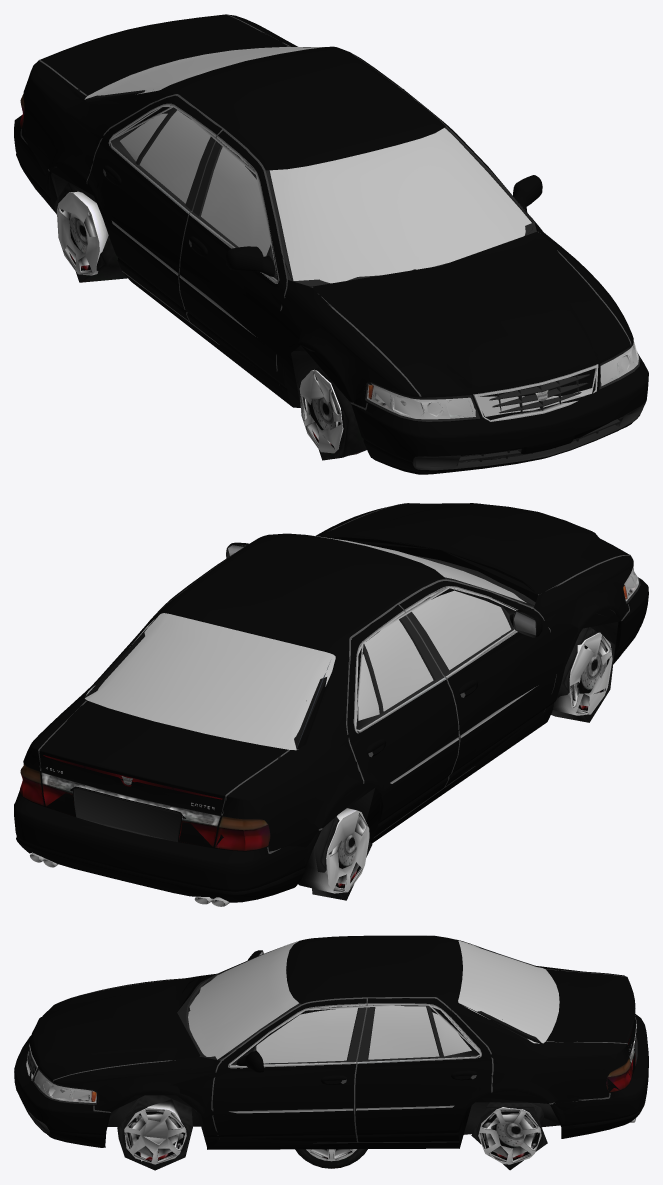
Rendered from carter.glb.
The picture shows the model from 3 angles, top to bottom: view 1: azimuth 30°, elevation 25°; view 2: azimuth 150°, elevation 25°; view 3: azimuth 270°, elevation 25°; orthographic projection. The views are drawn at different scales.
Parts seen in each view (by area): view 1: kit0, glass0, far, kit1, glass1; view 2: kit0, far, glass0, kit1, glass1; view 3: kit0, glass0, far, kit1, glass1, wheel0.
Part boxes in pixels (x1,y1,x2,y2): kit0: (14,14,648,474); glass0: (98,47,531,282); far: (21,31,646,474); kit1: (14,21,648,474); glass1: (84,46,529,283); kit0: (14,503,648,906); far: (21,503,637,900); glass0: (86,535,524,738); kit1: (14,510,647,906); glass1: (85,542,526,750); kit0: (14,935,648,1149); glass0: (189,941,545,1063); far: (22,935,636,1170); kit1: (15,937,646,1148); glass1: (188,940,559,1063); wheel0: (295,1149,367,1168).
Bounding box in the file's own units: 2.09 × 1.76 × 5.02.
1 material, 1 textured.
